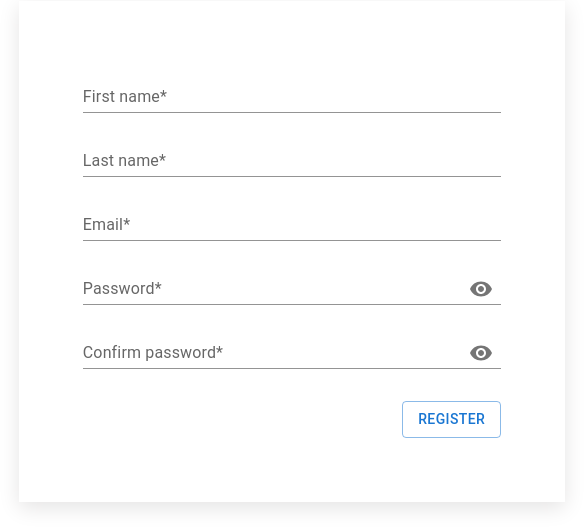
Test: Register page component › Should show password and hide it after click
The width and height of the screenshot is (585, 528).
Type "password" into the password field with test id "passwordInput" at (268, 289), box top-left (83, 273), bottom-right (453, 305)
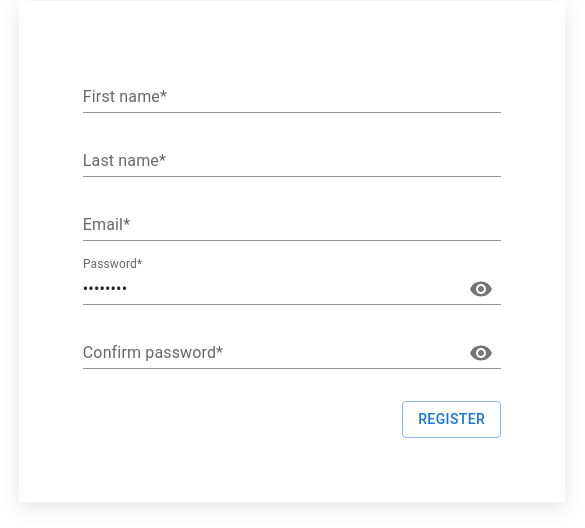
Click the button with test id "passwordButton" at (481, 289), box top-left (461, 269), bottom-right (501, 309)
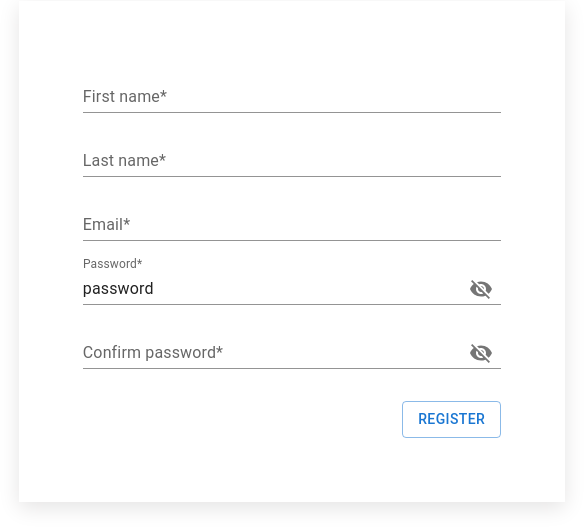
Check: the field with test id "passwordInput" shows its text, box top-left (83, 273), bottom-right (453, 305)
